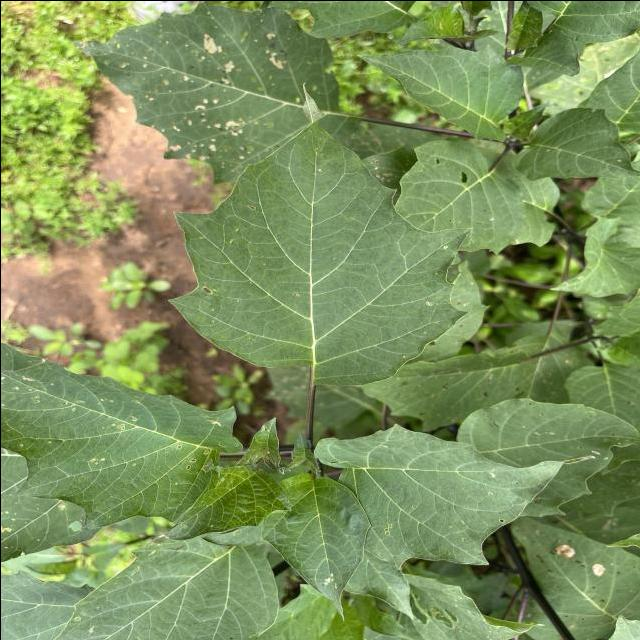Datura metal linn: (162, 79, 475, 392), (0, 337, 247, 536), (312, 418, 598, 572), (257, 470, 373, 623), (353, 42, 524, 144), (140, 462, 292, 549), (508, 105, 640, 183)
